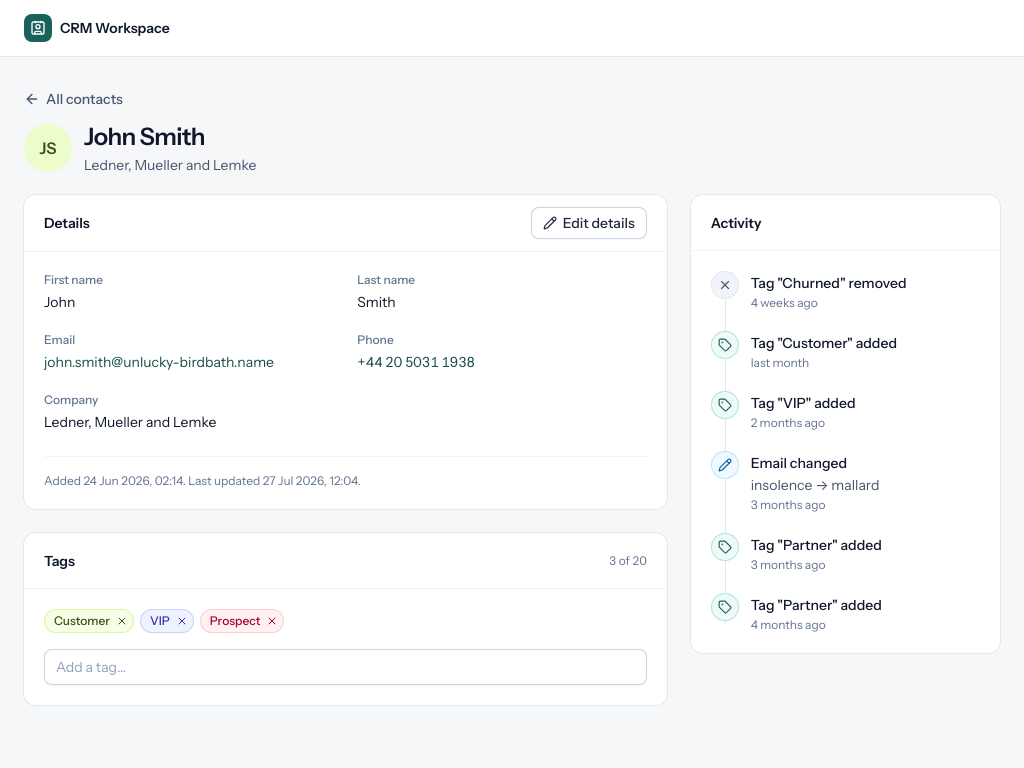
TagEditor › says a tag is already added without sending a request
The width and height of the screenshot is (1024, 768).
Type "vip" into the dropdown labelled "Add a tag".
click(345, 667); type("vip")  # box [44,649,647,685]
Then press Enter
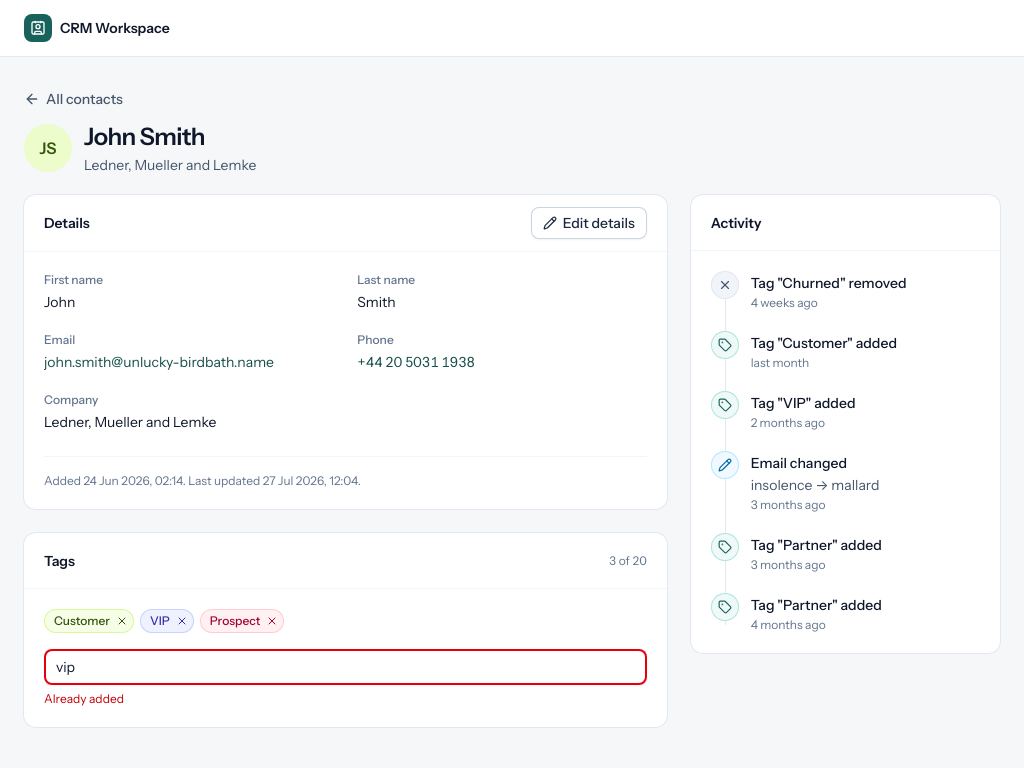
Now the text "Already added" is shown, box [44,691,124,706]
